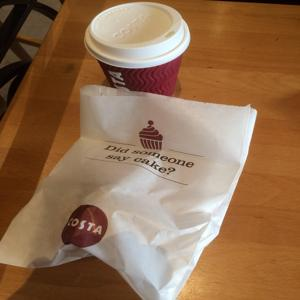cardboard: (98, 61, 190, 96)
paper: (2, 83, 255, 297)
plastic: (81, 2, 199, 63)
